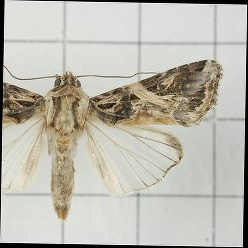Spodoptera litura: (2, 57, 223, 222)
